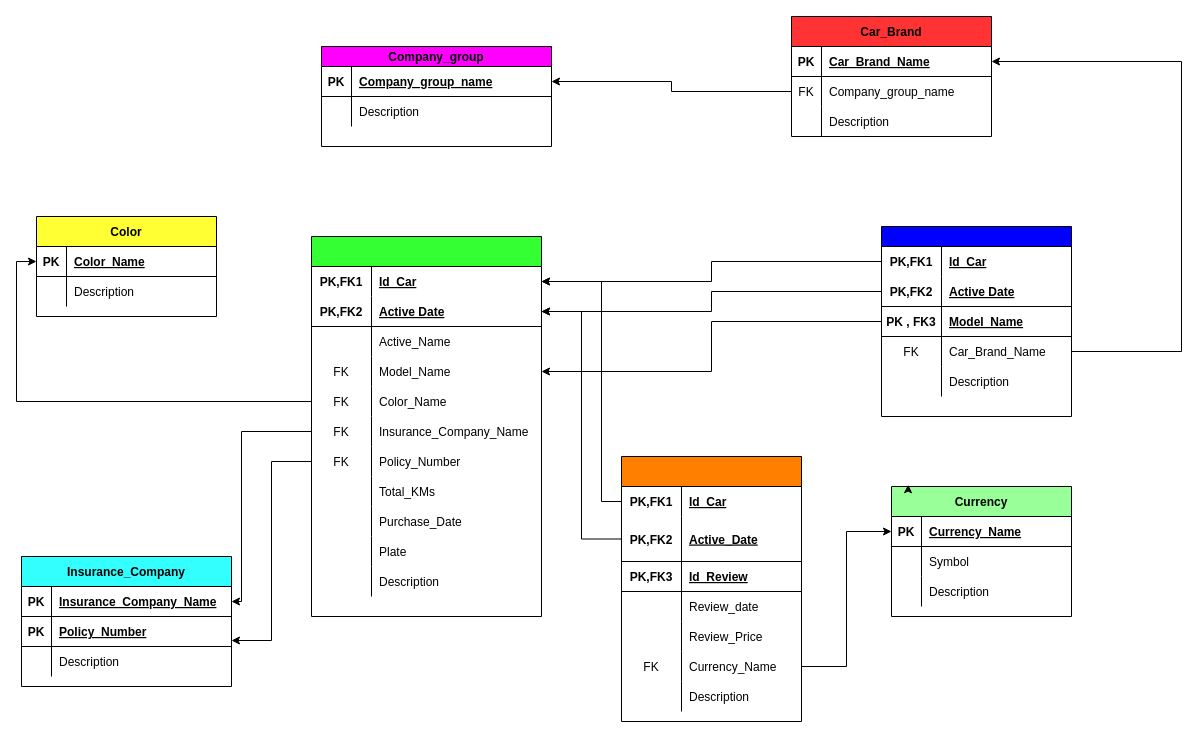
This 1198x738 diagram has some shape labels left out. Here are the shapes that lost their labels. From the top down, the box of each, then its label:
(880, 226, 1072, 416): Car_Model
(310, 236, 542, 616): Active_Cars
(620, 456, 802, 722): Reviews
